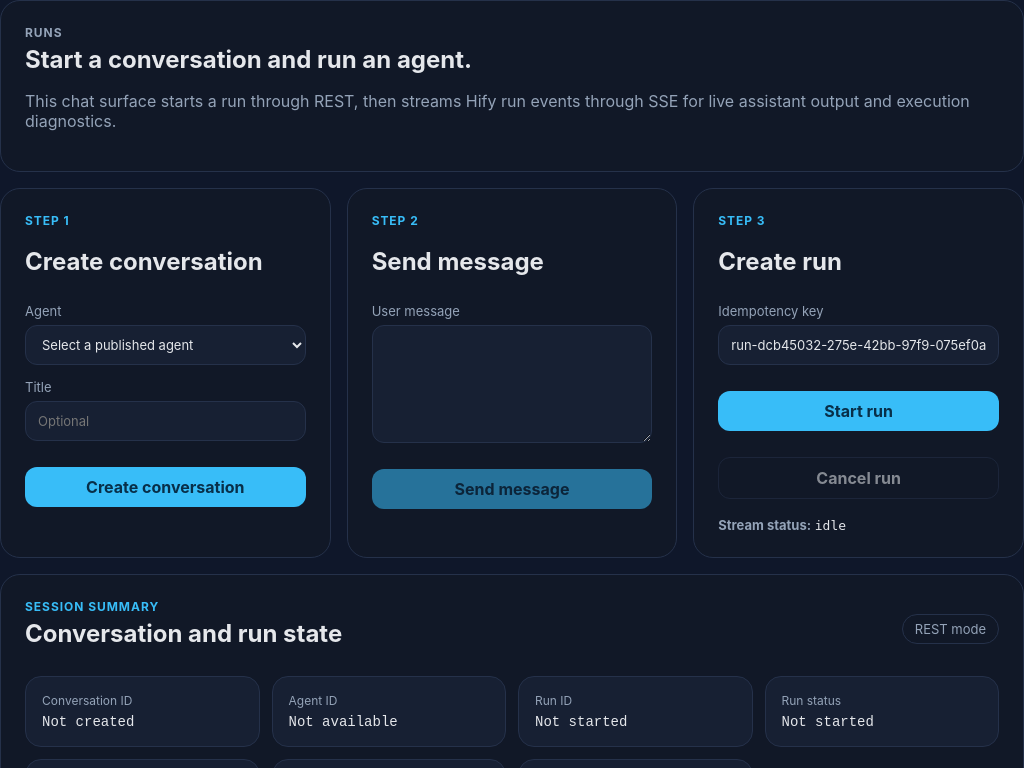
ChatRunsWorkspace › renders streamed assistant output after starting a run
Select "Support Agent · v1" in the dropdown labelled "Agent" at (165, 345), box [25,325,306,365]
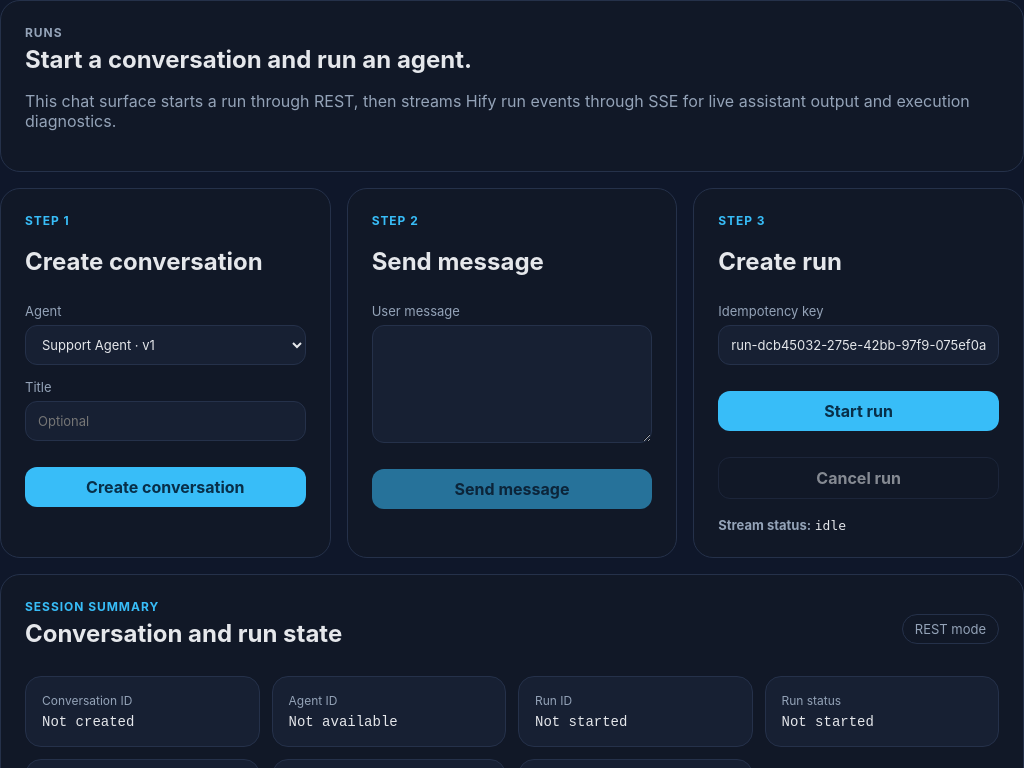
Click the button "Create conversation" at (165, 487), box [25,467,306,507]
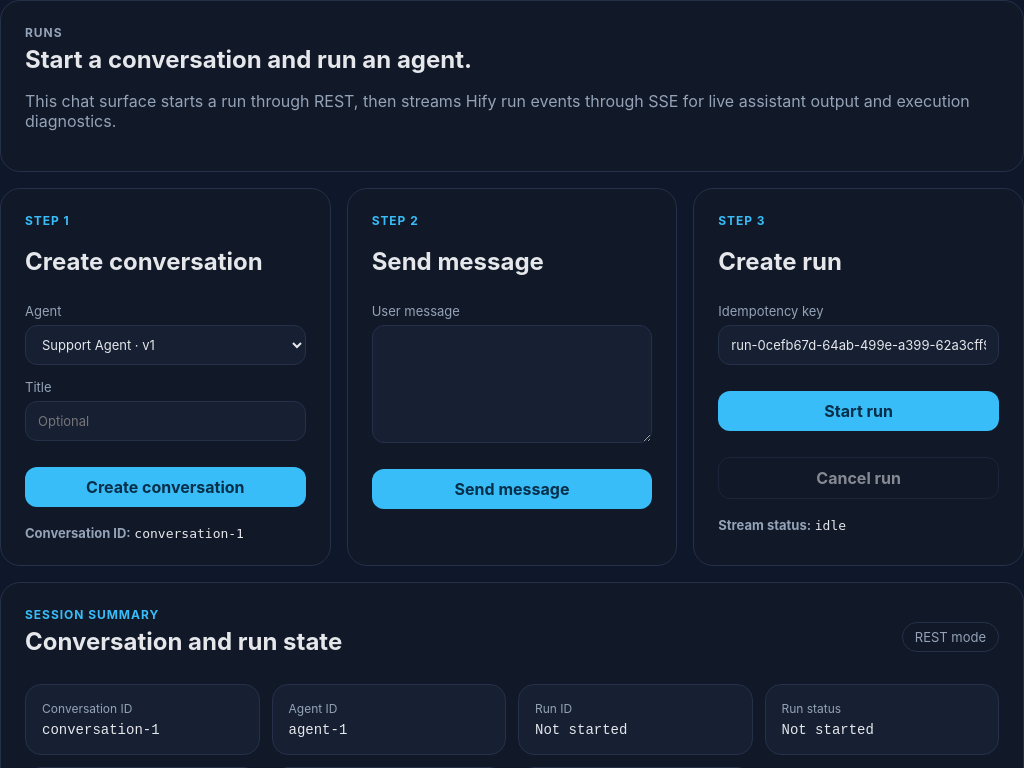
Click the button "Start run" at (859, 411), box [718,391,999,431]
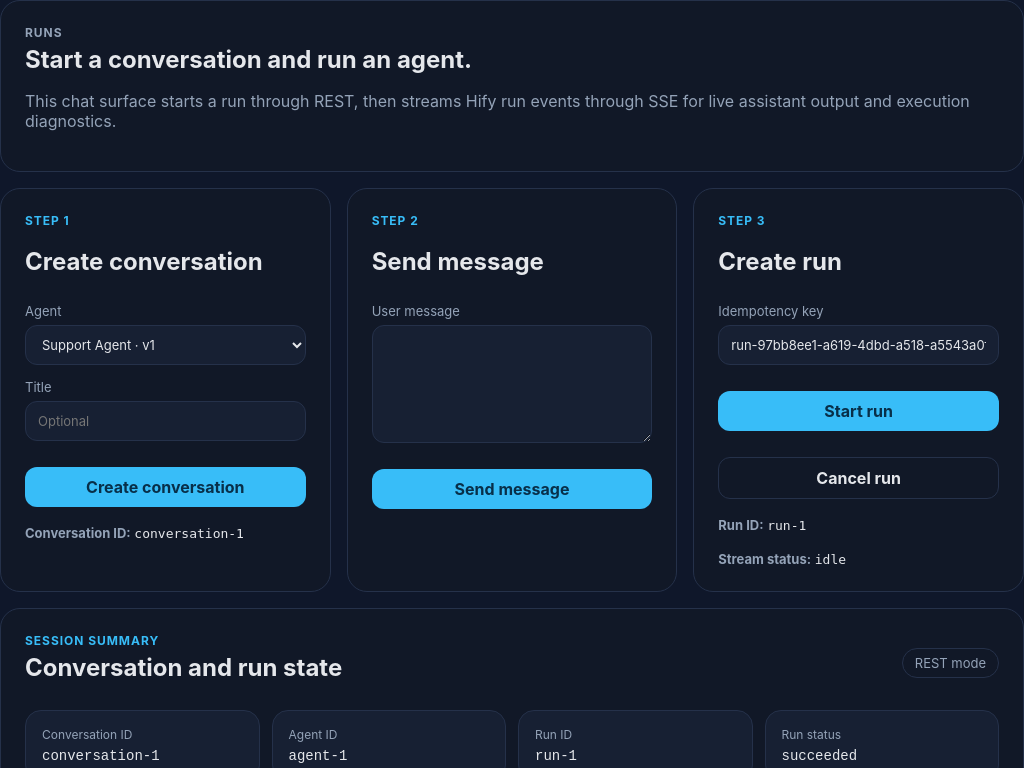
Expected: the text "succeeded" is shown, [782,748,857,764]
